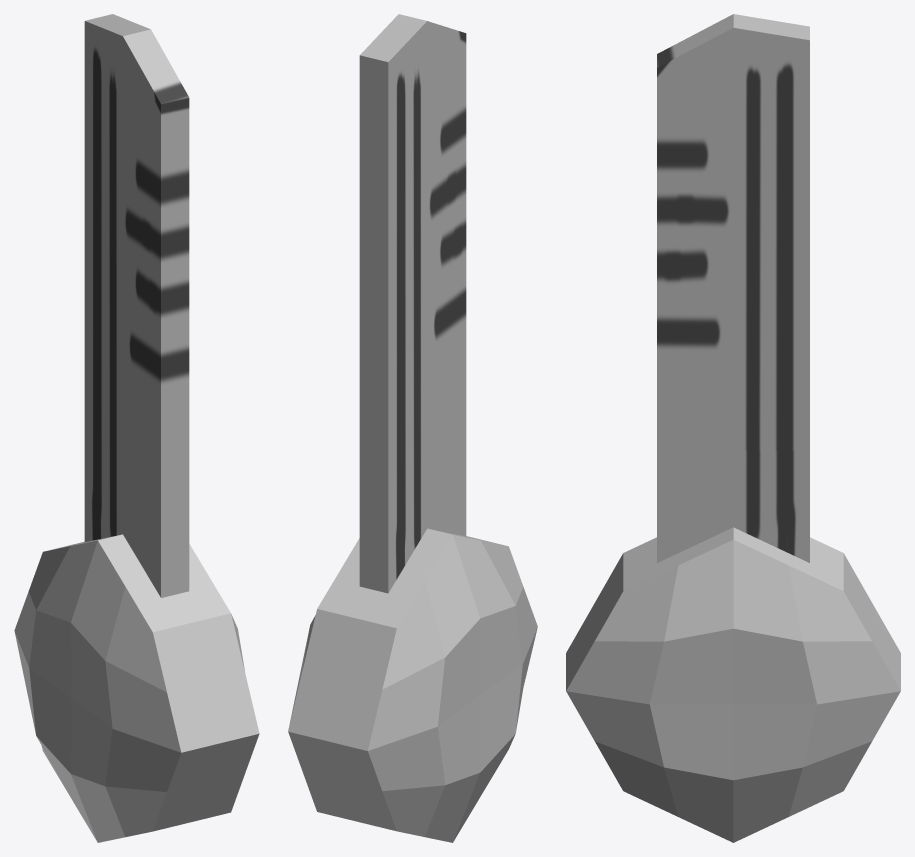
The model's file is key.fbx.
The picture shows the model from 3 angles, left to right: view 1: azimuth 30°, elevation 25°; view 2: azimuth 150°, elevation 25°; view 3: azimuth 270°, elevation 25°; orthographic projection.
Visible parts, largest first — view 1: Cube.001; view 2: Cube.001; view 3: Cube.001.
Boxes of the visible parts, x1,y1,x2,y2 form: Cube.001: [14, 14, 259, 842]; Cube.001: [288, 14, 537, 842]; Cube.001: [566, 14, 900, 842].
Size of the model in its own units: 88.78 by 513 by 194.
